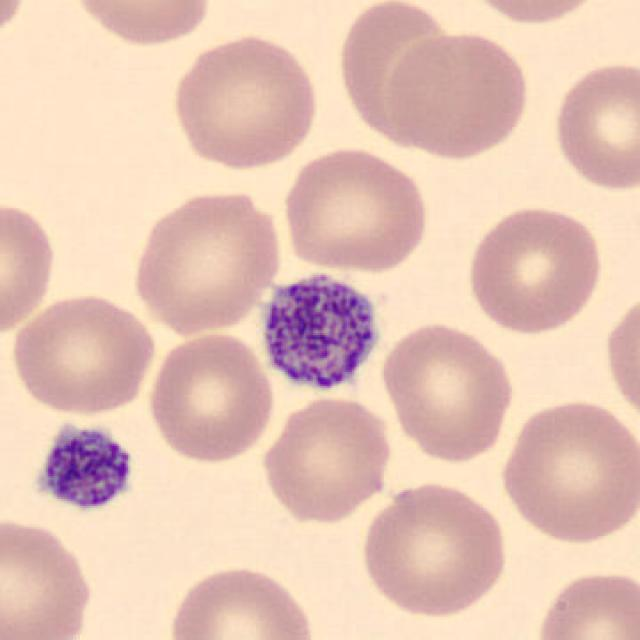Platelets: (252, 261, 388, 402), (28, 418, 138, 516)
RBC: (128, 183, 286, 337), (167, 30, 324, 173), (357, 478, 512, 620), (496, 395, 638, 546), (382, 26, 534, 162), (377, 317, 517, 464), (279, 143, 432, 275), (7, 289, 160, 418), (332, 0, 460, 153), (462, 201, 606, 337), (256, 392, 396, 526), (144, 328, 277, 465), (547, 56, 640, 193), (0, 511, 98, 640), (163, 560, 320, 640), (0, 195, 60, 340), (530, 566, 638, 640), (66, 0, 217, 49), (601, 287, 640, 428), (457, 0, 613, 28), (0, 0, 32, 49)
